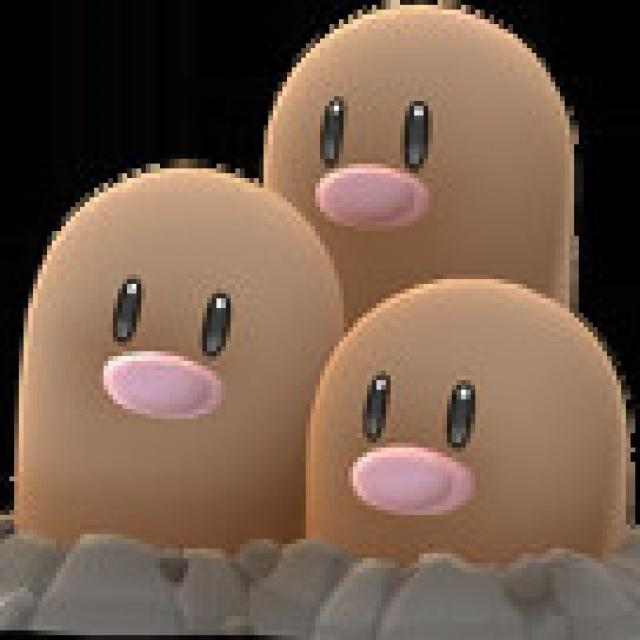Dugtrio: (10, 0, 638, 581)
